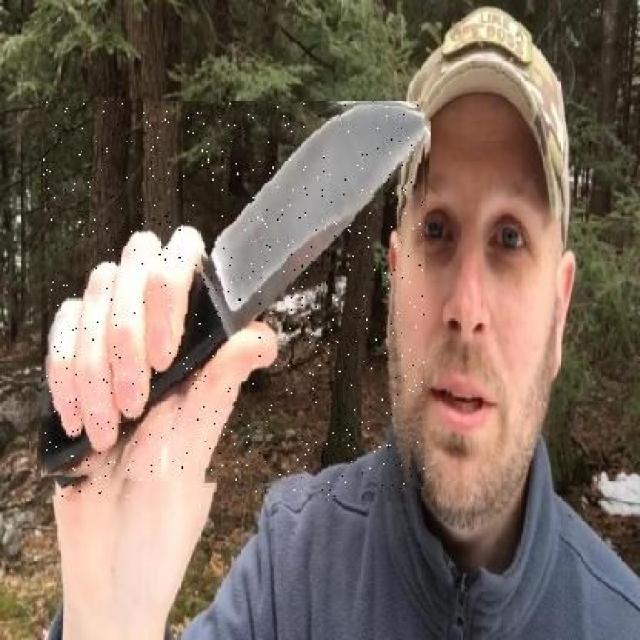knife: (42, 100, 424, 498)
